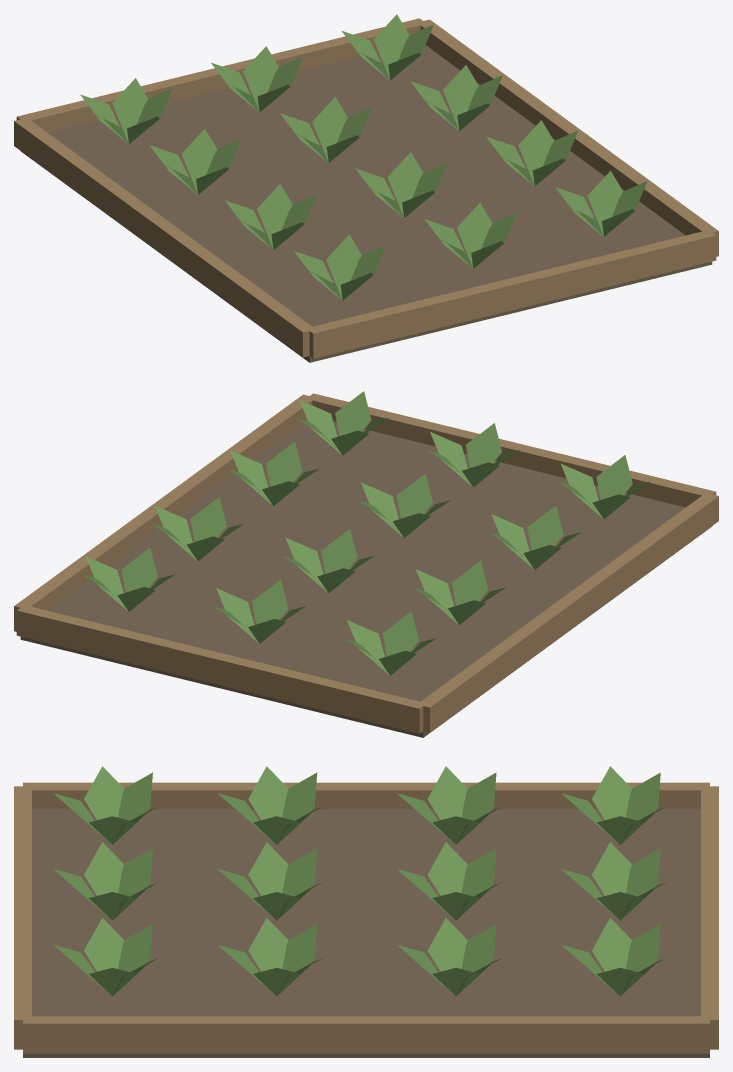
File: detail_garden.glb
3 renders of one model, top to bottom at view 1: azimuth 30°, elevation 25°; view 2: azimuth 150°, elevation 25°; view 3: azimuth 270°, elevation 25°, orthographic. The views are drawn at different scales.
Parts seen in each view (by area): view 1: detail_garden; view 2: detail_garden; view 3: detail_garden.
Part boxes in pixels (x1=…): detail_garden: x1=14, y1=14, x2=718, y2=362; detail_garden: x1=14, y1=391, x2=718, y2=737; detail_garden: x1=14, y1=766, x2=718, y2=1057.
Bounding box in the file's own units: 3.82 × 0.55 × 4.72.
